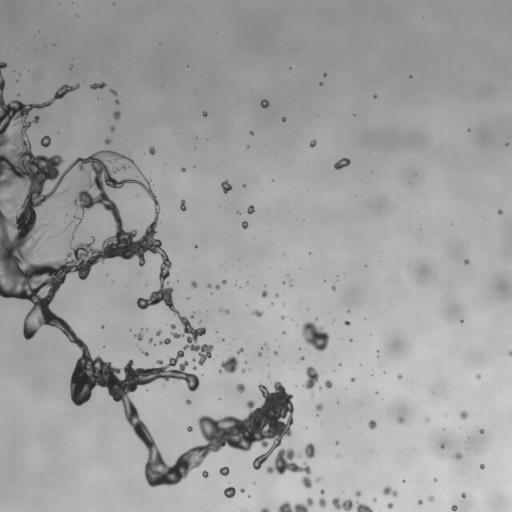droplet: (266, 448, 312, 488), (301, 321, 329, 352), (303, 366, 319, 389), (220, 355, 238, 373), (332, 497, 354, 511), (334, 158, 350, 169), (304, 443, 315, 458), (382, 486, 397, 496), (224, 486, 235, 498), (40, 135, 50, 147), (221, 180, 231, 192), (236, 383, 245, 393), (219, 466, 229, 475), (318, 497, 327, 507), (251, 310, 263, 317), (260, 99, 269, 108), (315, 403, 323, 412), (459, 411, 468, 419), (368, 420, 376, 429), (180, 200, 186, 211), (247, 205, 254, 214), (453, 453, 462, 460), (113, 111, 120, 119), (309, 139, 316, 147), (135, 332, 142, 340), (325, 380, 332, 388), (397, 416, 404, 423), (149, 146, 155, 154), (104, 138, 111, 144), (190, 281, 197, 287), (261, 290, 267, 297), (202, 470, 208, 477), (355, 490, 361, 497), (387, 502, 393, 508), (451, 505, 457, 511), (242, 221, 247, 228), (344, 320, 350, 325), (237, 348, 243, 353), (475, 374, 481, 379), (428, 496, 434, 501), (497, 209, 502, 214), (464, 259, 469, 264), (170, 324, 175, 329), (156, 330, 161, 335), (397, 374, 402, 379), (186, 399, 191, 404), (187, 426, 192, 431), (461, 493, 466, 498), (203, 111, 207, 116), (110, 126, 114, 131), (222, 279, 226, 284), (215, 284, 219, 289), (331, 285, 335, 290), (224, 309, 229, 313), (263, 343, 268, 347), (273, 351, 278, 355), (241, 368, 245, 373), (350, 377, 355, 381), (479, 429, 484, 433), (480, 464, 484, 469), (315, 478, 320, 482), (239, 488, 244, 492), (320, 489, 324, 494), (115, 100, 119, 104), (181, 167, 185, 171), (148, 338, 152, 342), (300, 356, 304, 360), (418, 500, 422, 504), (282, 117, 285, 121), (250, 131, 253, 135), (207, 284, 210, 288), (440, 445, 444, 448), (373, 498, 376, 502), (323, 73, 326, 76), (319, 82, 322, 85), (373, 94, 376, 97), (275, 294, 278, 297), (281, 316, 284, 319), (283, 331, 286, 334), (192, 358, 195, 361), (193, 366, 196, 369), (426, 418, 429, 421), (191, 315, 193, 318), (460, 320, 463, 322), (222, 338, 224, 341), (349, 339, 352, 341), (258, 353, 261, 355), (336, 441, 338, 444), (434, 478, 436, 481), (506, 143, 508, 145), (243, 185, 245, 187), (194, 245, 196, 247), (271, 303, 273, 305), (220, 308, 222, 310), (219, 370, 221, 372)
ligament: (0, 61, 291, 486), (278, 497, 313, 511), (65, 215, 82, 229), (356, 502, 373, 511), (90, 82, 105, 89), (158, 337, 170, 344), (9, 198, 18, 206), (140, 349, 148, 356), (110, 89, 116, 95), (260, 507, 269, 511), (508, 350, 511, 356), (243, 510, 246, 511)
